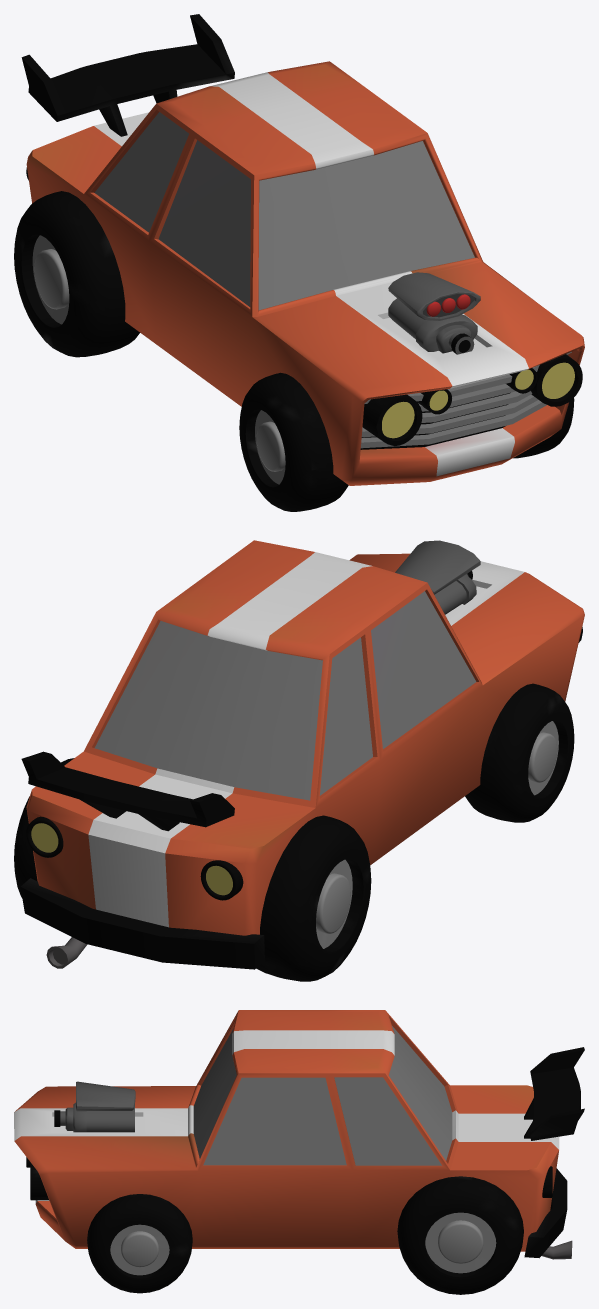
File: carro5.fbx
The picture shows the model from 3 angles, top to bottom: view 1: azimuth 30°, elevation 25°; view 2: azimuth 150°, elevation 25°; view 3: azimuth 270°, elevation 25°; orthographic projection. The views are drawn at different scales.
Parts seen in each view (by area): view 1: Carro.Laranja; view 2: Carro.Laranja; view 3: Carro.Laranja.
Part boxes in pixels (x1,y1,x2,y2): Carro.Laranja: [14, 14, 584, 511]; Carro.Laranja: [14, 540, 584, 981]; Carro.Laranja: [14, 1010, 584, 1294].
Bounding box in the file's own units: 254 × 230 × 570.
